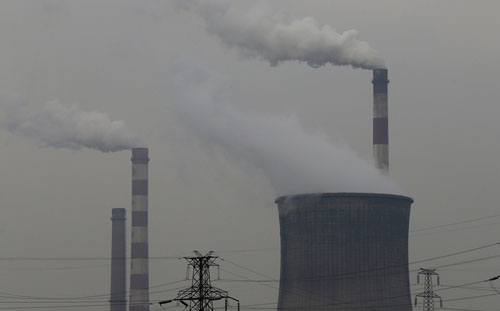dust: (221, 109, 422, 204), (209, 4, 394, 77), (9, 95, 156, 156)
